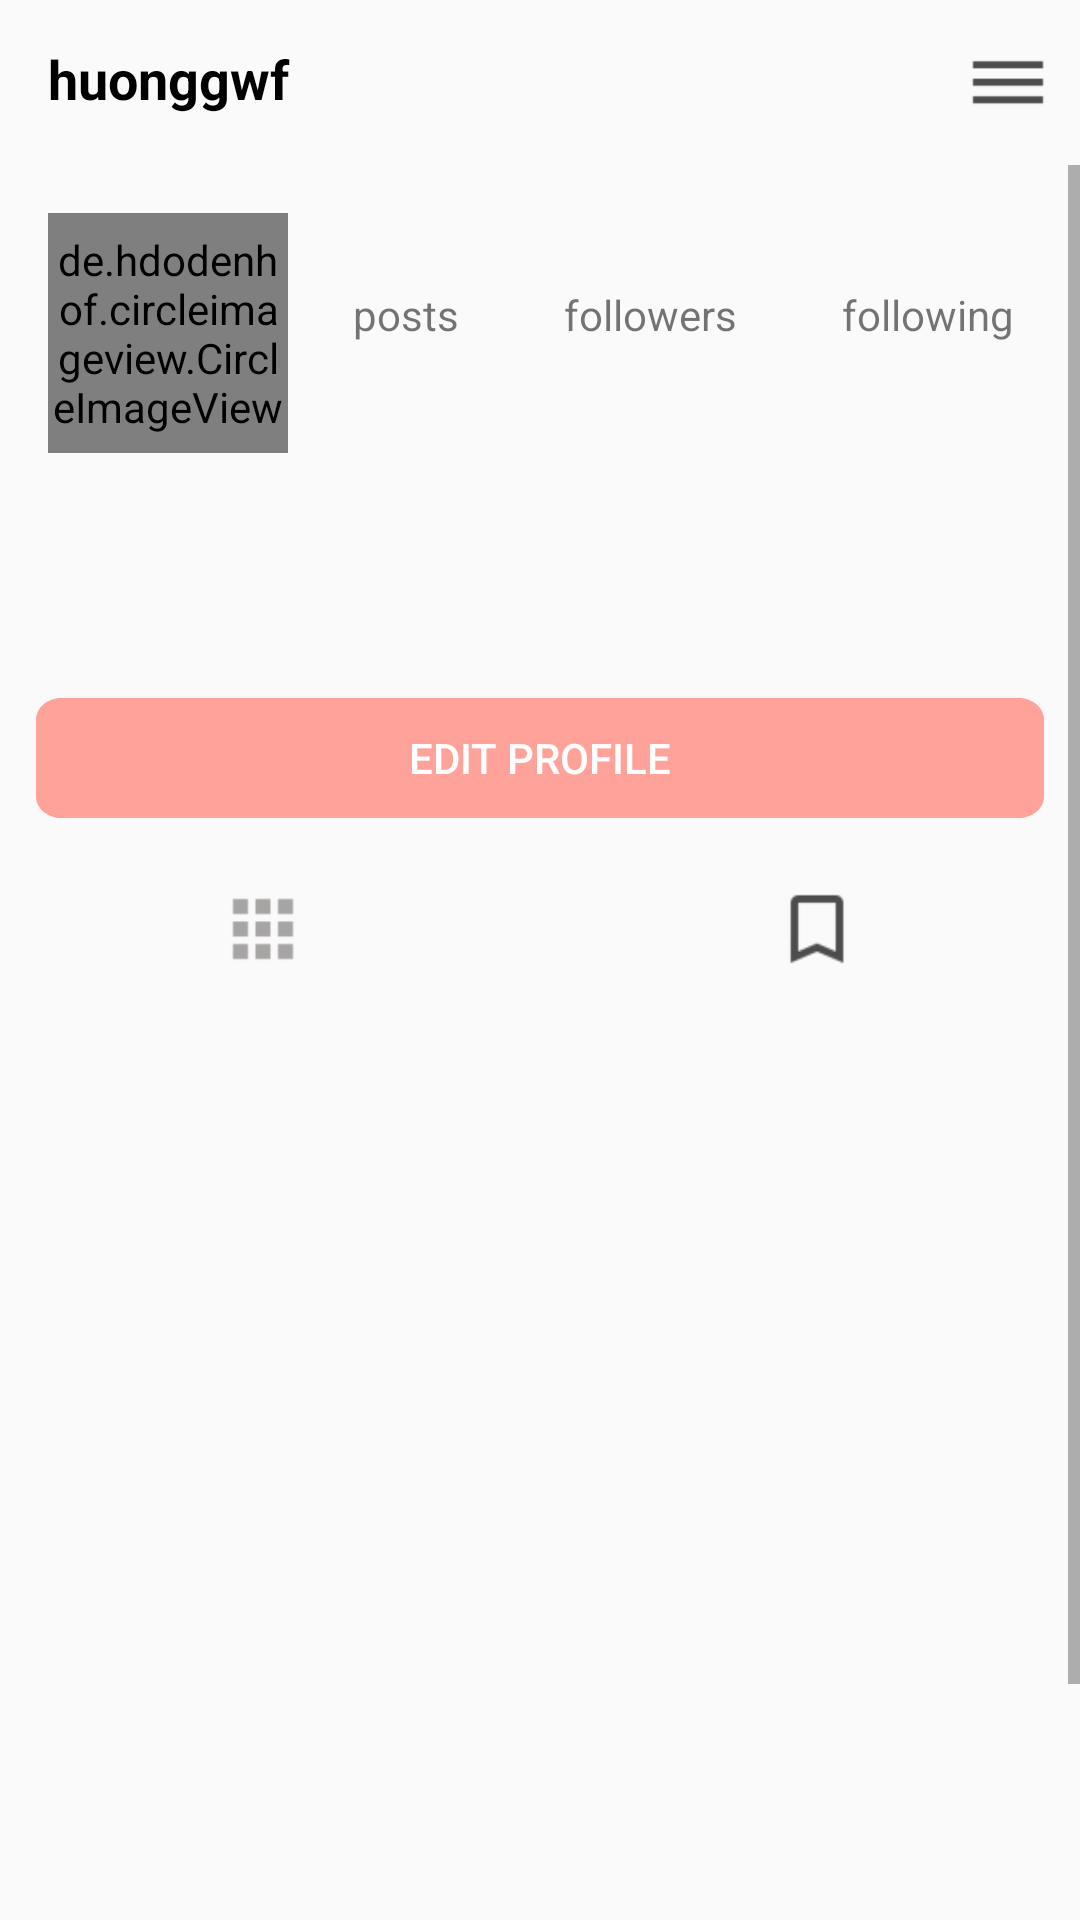

Icons on this 1080 × 1920 Android screen, each with its box as box(x1, y1, x2, y2):
grid: box(233, 899, 293, 959)
save: box(790, 895, 844, 963)
